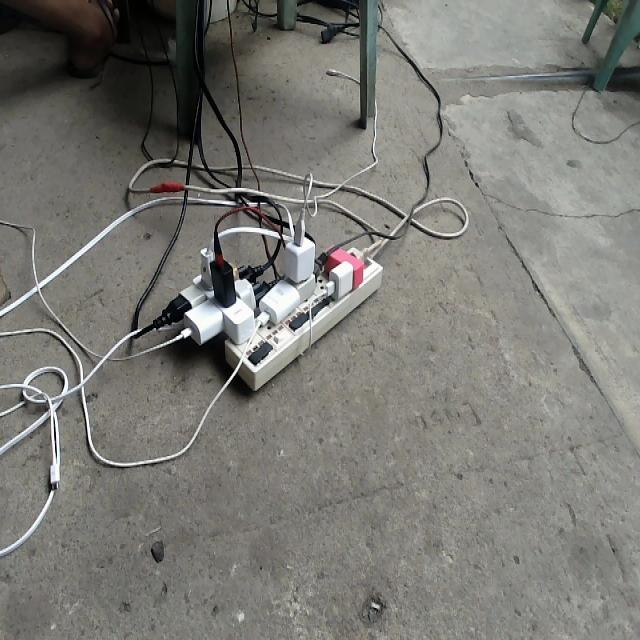-: (171, 193, 383, 392)
